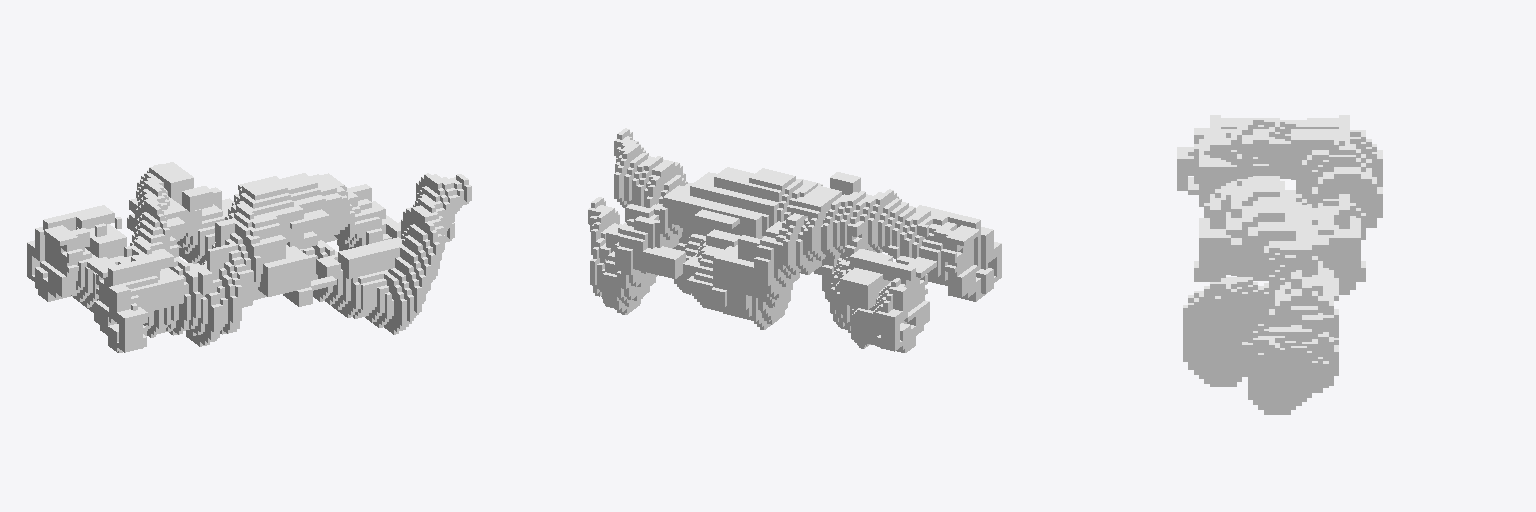
File: DragonStrike2.obj
The picture shows the model from 3 angles: view 1: azimuth 30°, elevation 25°; view 2: azimuth 150°, elevation 25°; view 3: azimuth 270°, elevation 25°; orthographic projection.
Size of the model in its own units: 78 by 36 by 38.